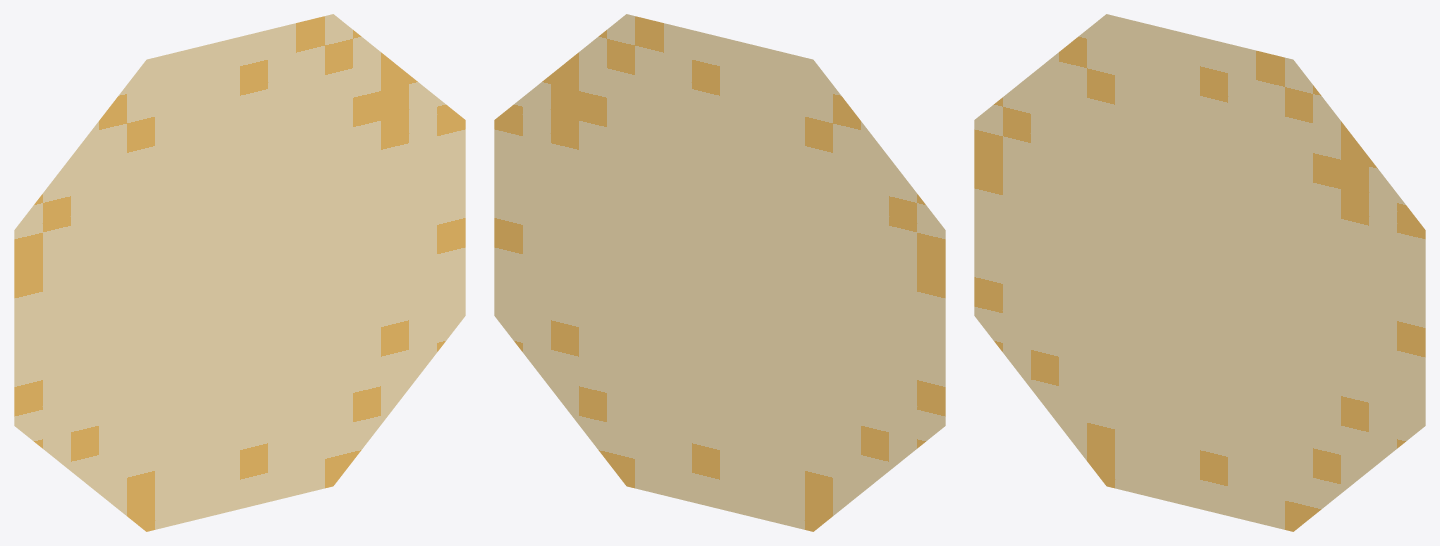
Rendered from wsky.sun.glb.
3 renders of one model, left to right at view 1: azimuth 30°, elevation 25°; view 2: azimuth 150°, elevation 25°; view 3: azimuth 330°, elevation 25°, orthographic.
Parts seen in each view (by area): view 1: kit_card_disc; view 2: kit_card_disc; view 3: kit_card_disc.
Boxes of the visible parts, <box> form: kit_card_disc: <box>14,14,465,531</box>; kit_card_disc: <box>494,14,945,531</box>; kit_card_disc: <box>974,14,1425,531</box>.
Size of the model in its own units: 2.77 by 2.77 by 0.
Materials: 1 (1 with a texture image).
